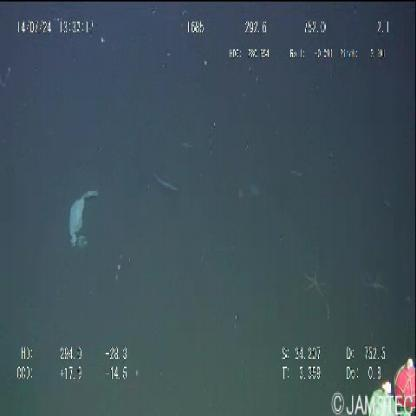Rác: (68, 190, 99, 250)
